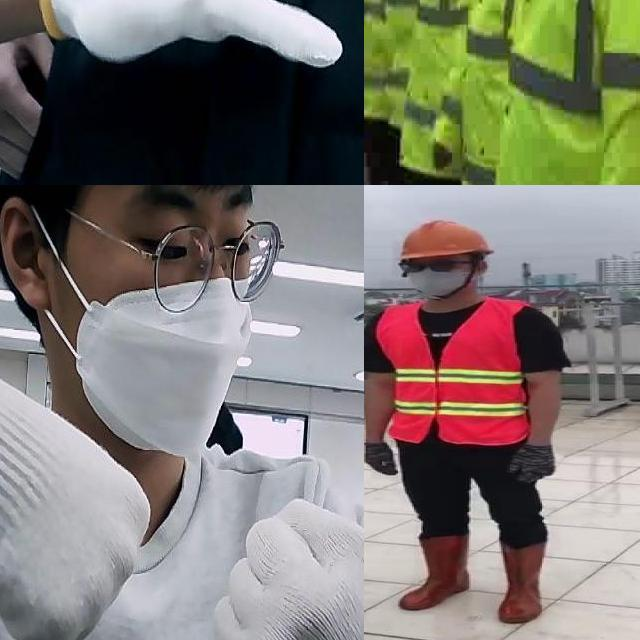BOOTS: (398, 533, 473, 611), (496, 539, 553, 623)
GLASS: (397, 257, 472, 273)
GLOVE: (0, 358, 150, 640), (209, 494, 364, 640), (38, 0, 342, 69), (509, 441, 555, 482), (364, 434, 400, 476)
HELMET: (389, 216, 496, 260)
VEST: (488, 0, 640, 185), (375, 297, 530, 444), (430, 0, 547, 185), (396, 0, 496, 182), (377, 0, 430, 122), (364, 0, 405, 124)
